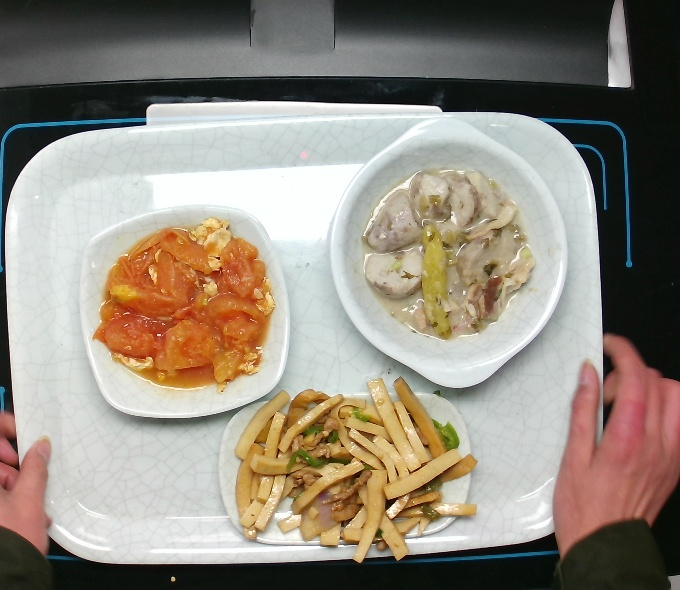wcq-FanQieChaoDan: (84, 219, 278, 397)
wcq-QianYeDouFu: (221, 376, 481, 565)
wcq-YangYu: (354, 159, 538, 345)
